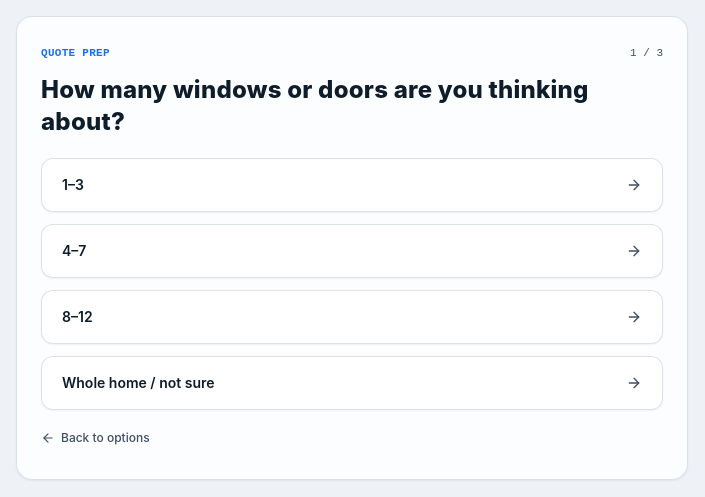
Scenario: NoQuoteDiagnostic › advances through each question as answers are selected
Click the button "1–3" at (73, 184), box [41, 158, 663, 212]
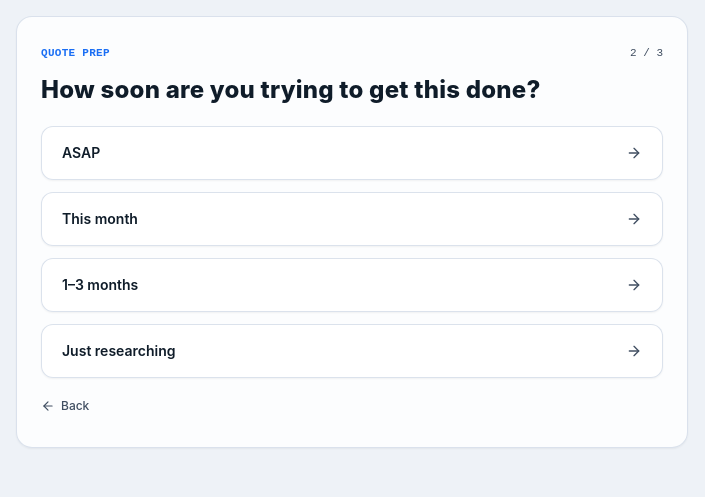
expect the heading "How soon are you trying to get this done?" is shown: met, box [41, 74, 541, 104]
